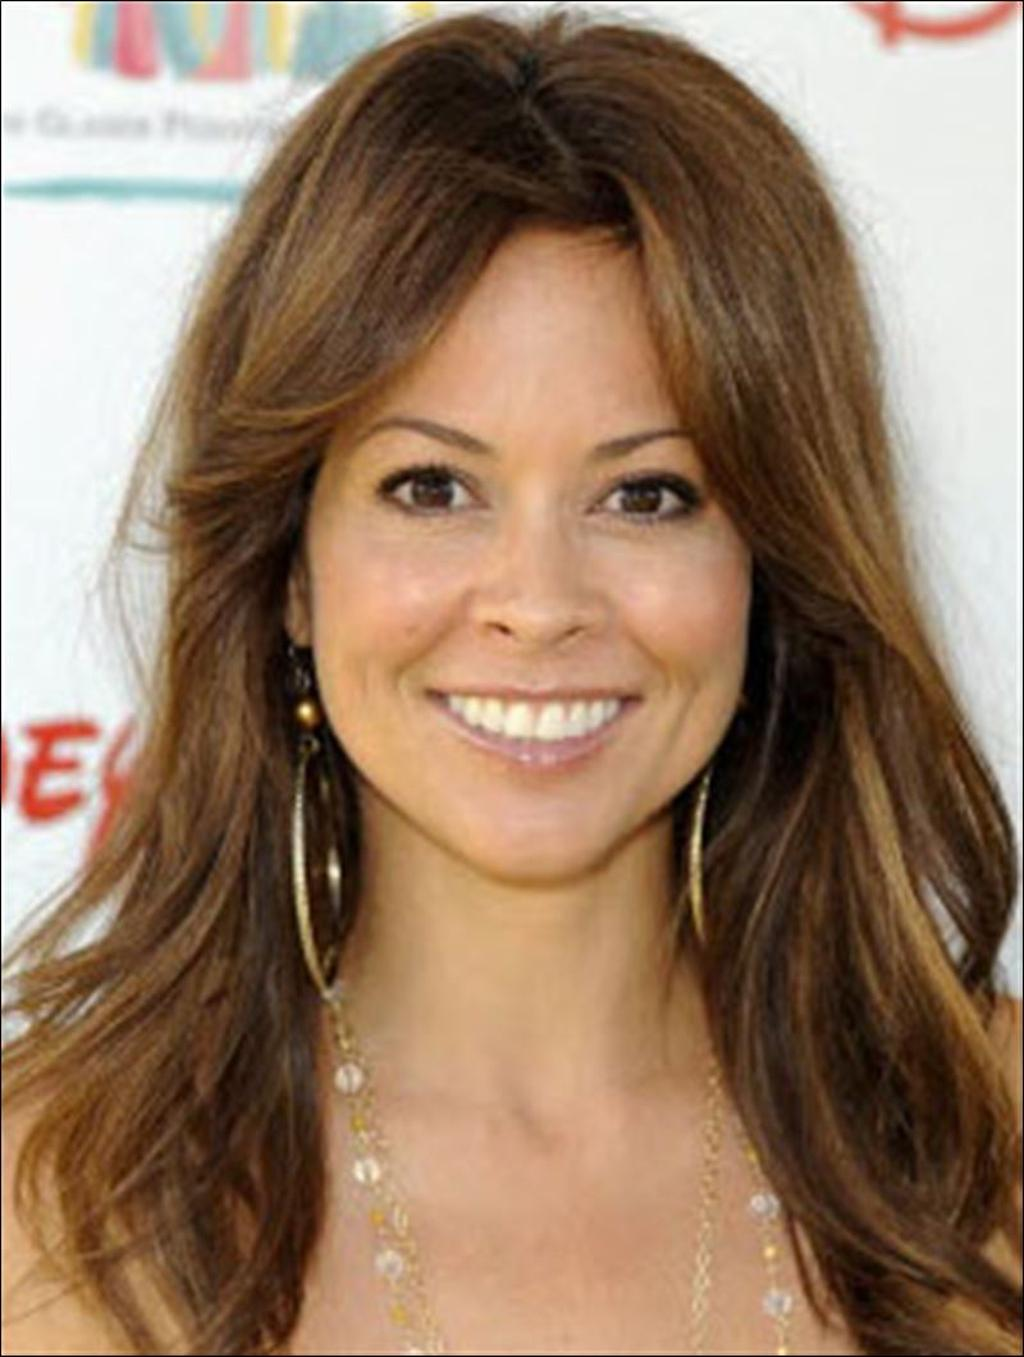face: (308, 172, 754, 886)
